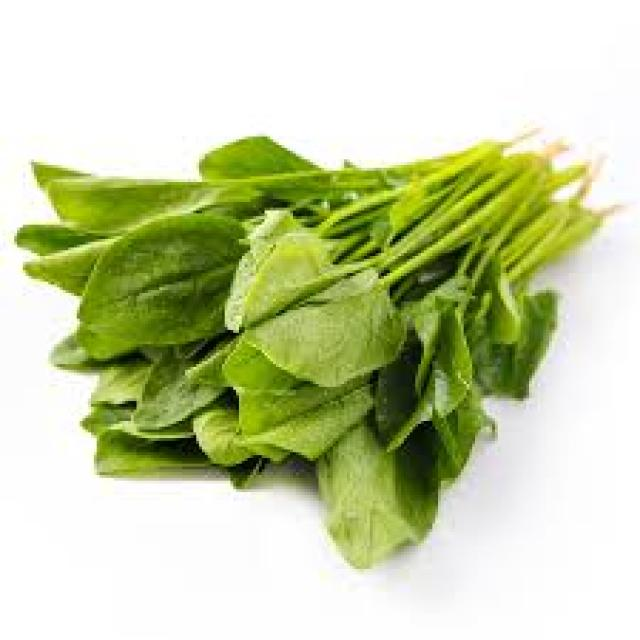biodegradable: (17, 137, 612, 566)
